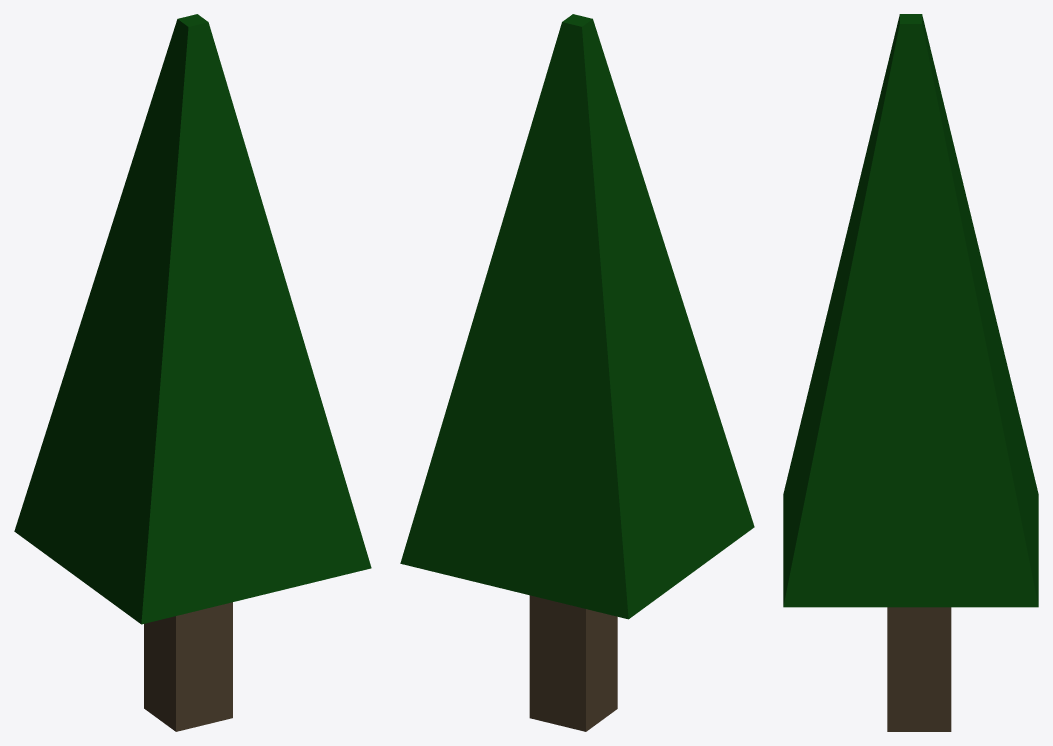
The model's file is tree8.FBX.
3 views of the same model, side by side, from view 1: azimuth 30°, elevation 25°; view 2: azimuth 150°, elevation 25°; view 3: azimuth 270°, elevation 25° (orthographic).
Parts seen in each view (by area): view 1: tree8; view 2: tree8; view 3: tree8.
Part boxes in pixels (left/top/right/bottom): tree8: left=14, top=14, right=371, bottom=731; tree8: left=400, top=14, right=754, bottom=731; tree8: left=783, top=14, right=1038, bottom=731.
Size of the model in its own units: 3.3 by 9.52 by 3.15.
